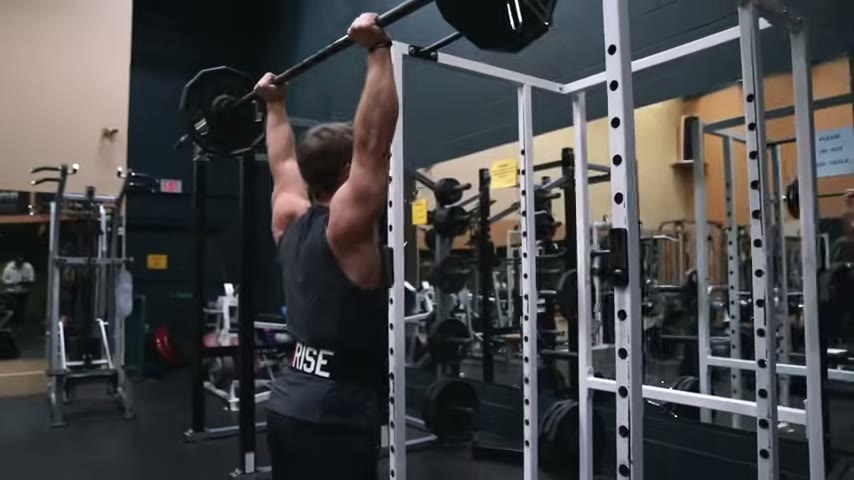barbell_plate_side: (172, 0, 272, 164)
